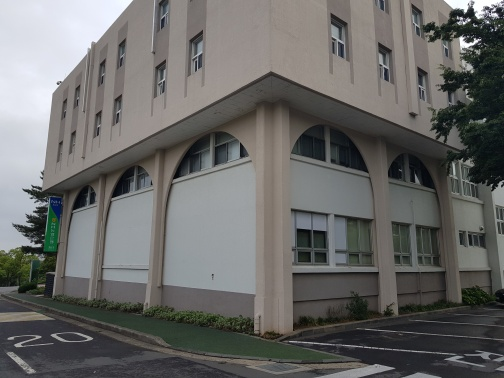Main Building of University: (37, 3, 498, 316), (276, 207, 454, 293), (66, 130, 252, 211), (284, 112, 441, 198), (53, 17, 130, 169), (42, 187, 63, 256)
